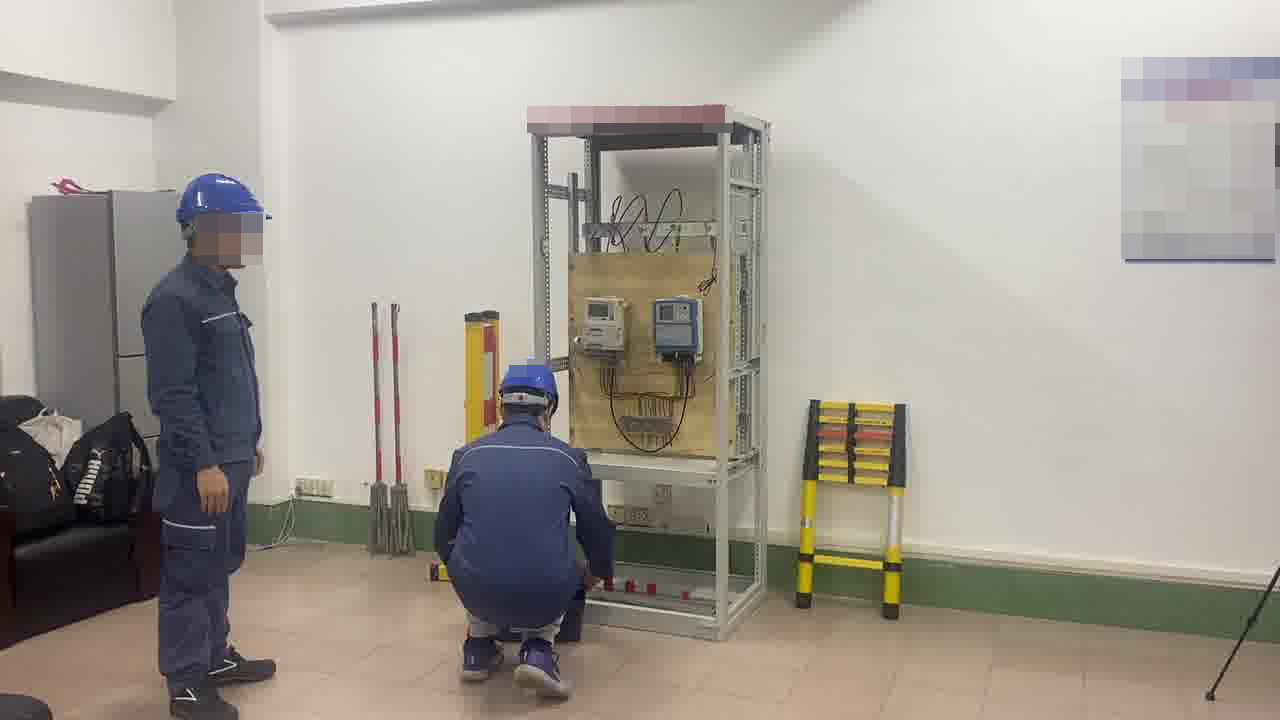downsuit: (156, 468, 250, 677)
halt: (172, 173, 270, 273), (496, 358, 561, 426)
hand: (196, 465, 228, 513)
inear: (191, 214, 226, 256)
person: (140, 172, 281, 720), (429, 357, 617, 705)
upsuit: (431, 415, 615, 619), (134, 264, 264, 464)
